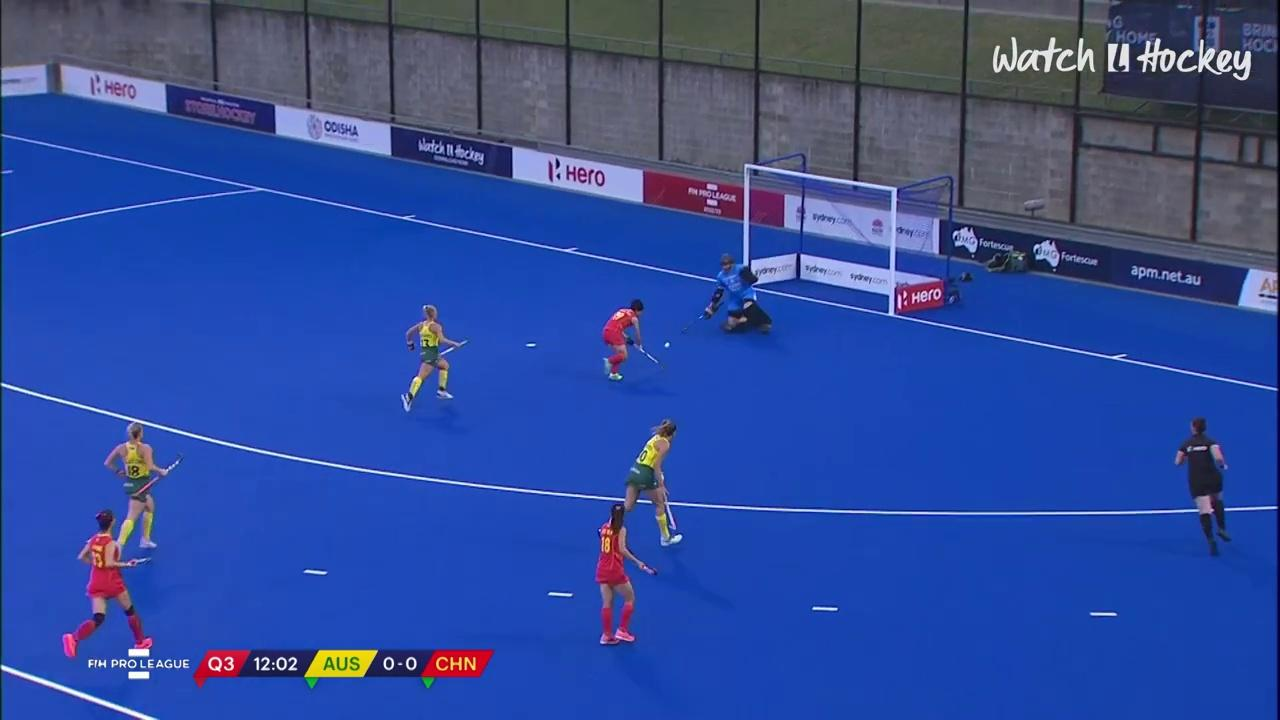ball: (660, 340, 674, 351)
